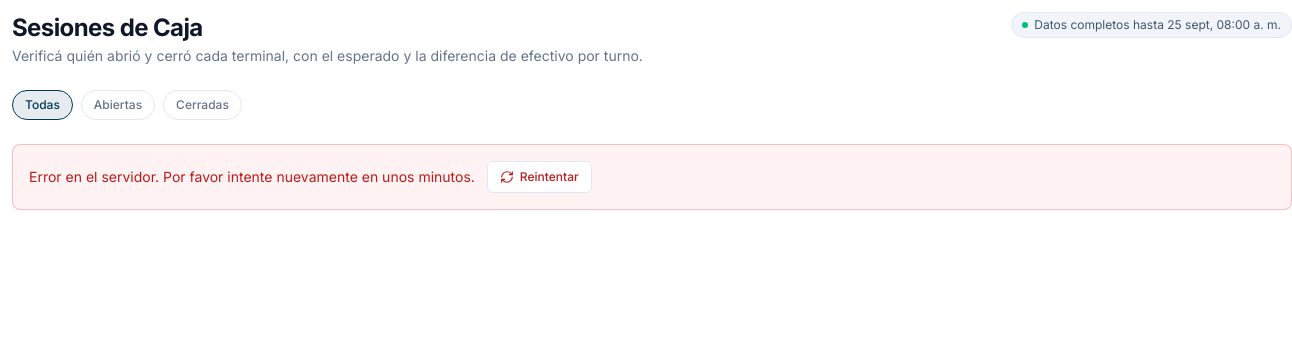
Test: Cash sessions page (batch 6 slice 6a — finding B6) › recovers through the retry button after a transient failure
Click the button "Reintentar": (539,177) [487, 161, 592, 193]
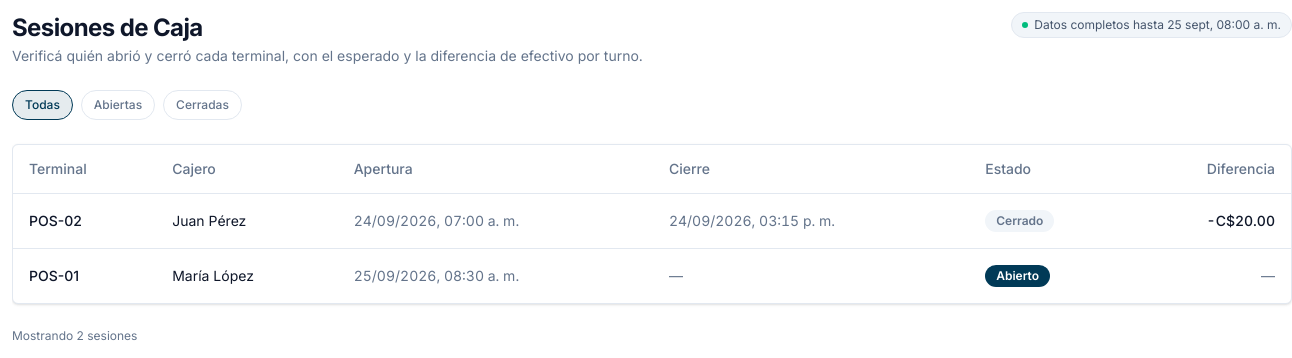
Expected: the text "POS-01" is shown, [13, 248, 156, 302]
